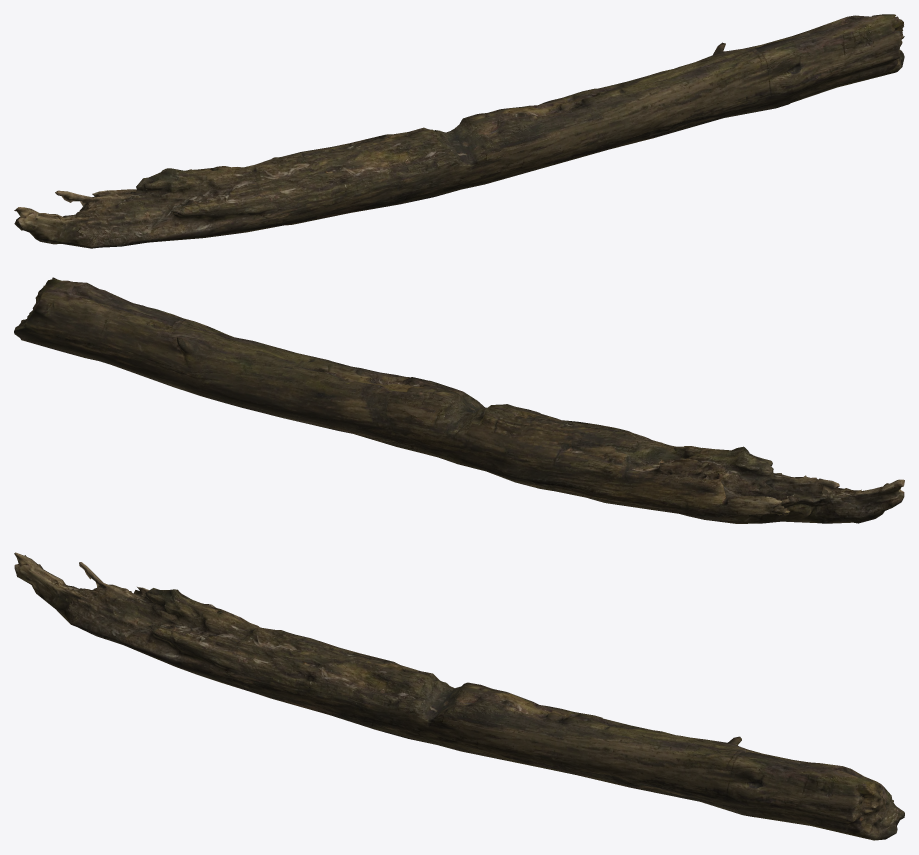
File: dead_tree_trunk.glb
The picture shows the model from 3 angles, top to bottom: view 1: azimuth 30°, elevation 25°; view 2: azimuth 150°, elevation 25°; view 3: azimuth 330°, elevation 25°; orthographic projection.
Visible parts, largest first — view 1: dead_tree_trunk; view 2: dead_tree_trunk; view 3: dead_tree_trunk.
Part boxes in pixels (left/top/right/bottom): dead_tree_trunk: left=14, top=14, right=904, bottom=248; dead_tree_trunk: left=14, top=277, right=904, bottom=523; dead_tree_trunk: left=14, top=552, right=904, bottom=840.
Bounding box in the file's own units: 3.05 × 0.2905 × 0.2771.
Materials: 1 (1 with a texture image).
